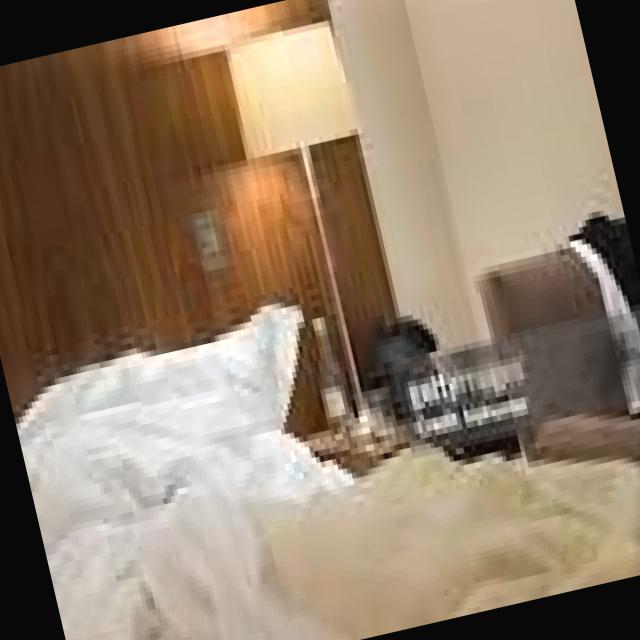mess: (19, 353, 323, 640), (268, 415, 619, 640), (292, 330, 486, 489), (482, 215, 640, 389)
